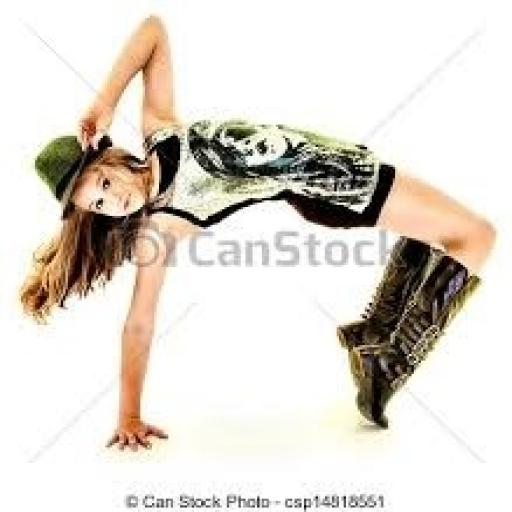dancing: (14, 11, 500, 454)
